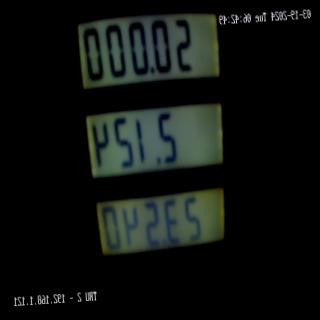screen: (65, 0, 241, 279)
